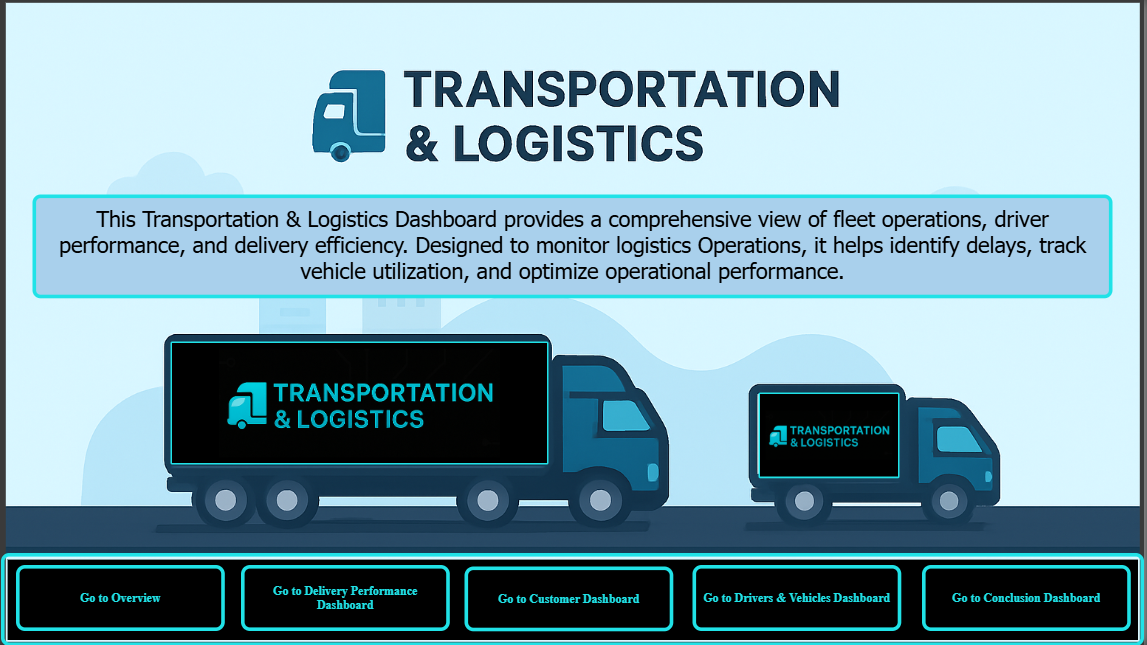

The dashboard page shown, as its layout file describes it:
{"tool":"powerbi","page":{"name":"HOME","canvas":[1280,720],"ordinal":0},"visuals":[{"type":"image","box":[10,0,1270,720],"z":0},{"type":"image","box":[198.3,381.7,420,136.7],"z":1000},{"type":"image","box":[851.7,438.3,156.7,95],"z":2000},{"type":"shape","box":[10,616.7,1270,103.3],"z":2500,"group":"g1"},{"type":"actionButton","box":[276.1,630,231.7,73.3],"z":3000,"group":"g1"},{"type":"textbox","box":[45,218.3,1200,115],"z":3000},{"type":"actionButton","box":[1032.8,630,231.7,73.3],"z":4000,"group":"g1"},{"type":"group","id":"g1","title":"Group 1","box":[10,616.7,1270,103.3],"z":4000},{"type":"actionButton","box":[777.8,630,231.7,73.3],"z":5000,"group":"g1"},{"type":"actionButton","box":[524.4,631.7,231.7,71.7],"z":6000,"group":"g1"},{"type":"actionButton","box":[26.1,630,231.7,73.3],"z":7000,"group":"g1"}]}

Visuals, with their boxes in screenshot pixels (x1, y1, x2, y2), scaled from the page's 1280x720 canvas onto the 1147x645 screenshot:
image: <bbox>9, 0, 1146, 644</bbox>
image: <bbox>178, 342, 554, 464</bbox>
image: <bbox>763, 393, 904, 478</bbox>
shape: <bbox>9, 552, 1146, 644</bbox>
actionButton: <bbox>247, 564, 455, 630</bbox>
textbox: <bbox>40, 196, 1116, 299</bbox>
actionButton: <bbox>925, 564, 1133, 630</bbox>
"Group 1" group: <bbox>9, 552, 1146, 644</bbox>
actionButton: <bbox>697, 564, 905, 630</bbox>
actionButton: <bbox>470, 566, 678, 630</bbox>
actionButton: <bbox>23, 564, 231, 630</bbox>
